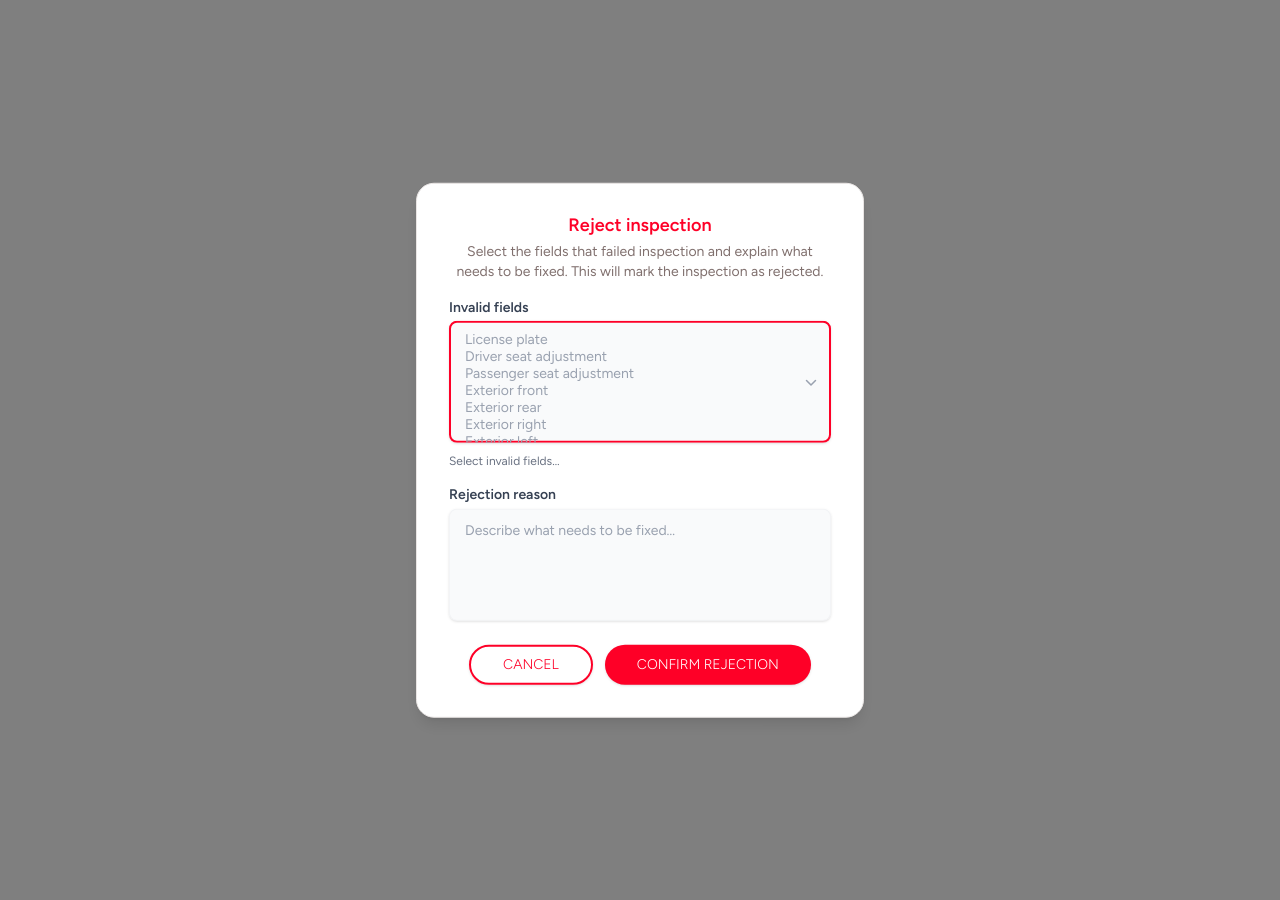
RejectDialog › shows a reason error when submitting without a reason
Select "Horn" in the dropdown labelled "Invalid fields". click: (640, 382)
box: top-left (449, 321), bottom-right (831, 443)
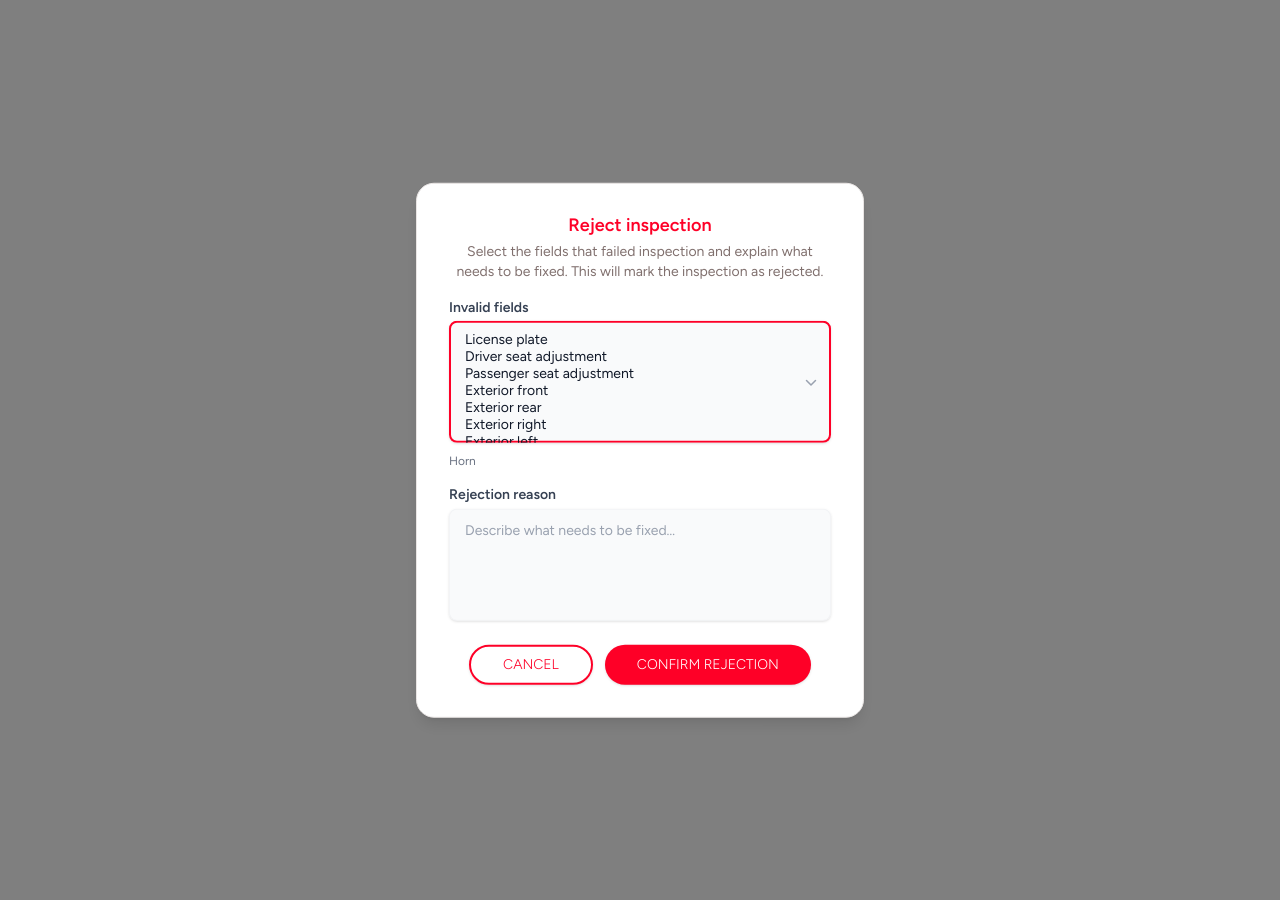
Click the button "Confirm rejection". click: (708, 664)
box: top-left (605, 644), bottom-right (811, 684)
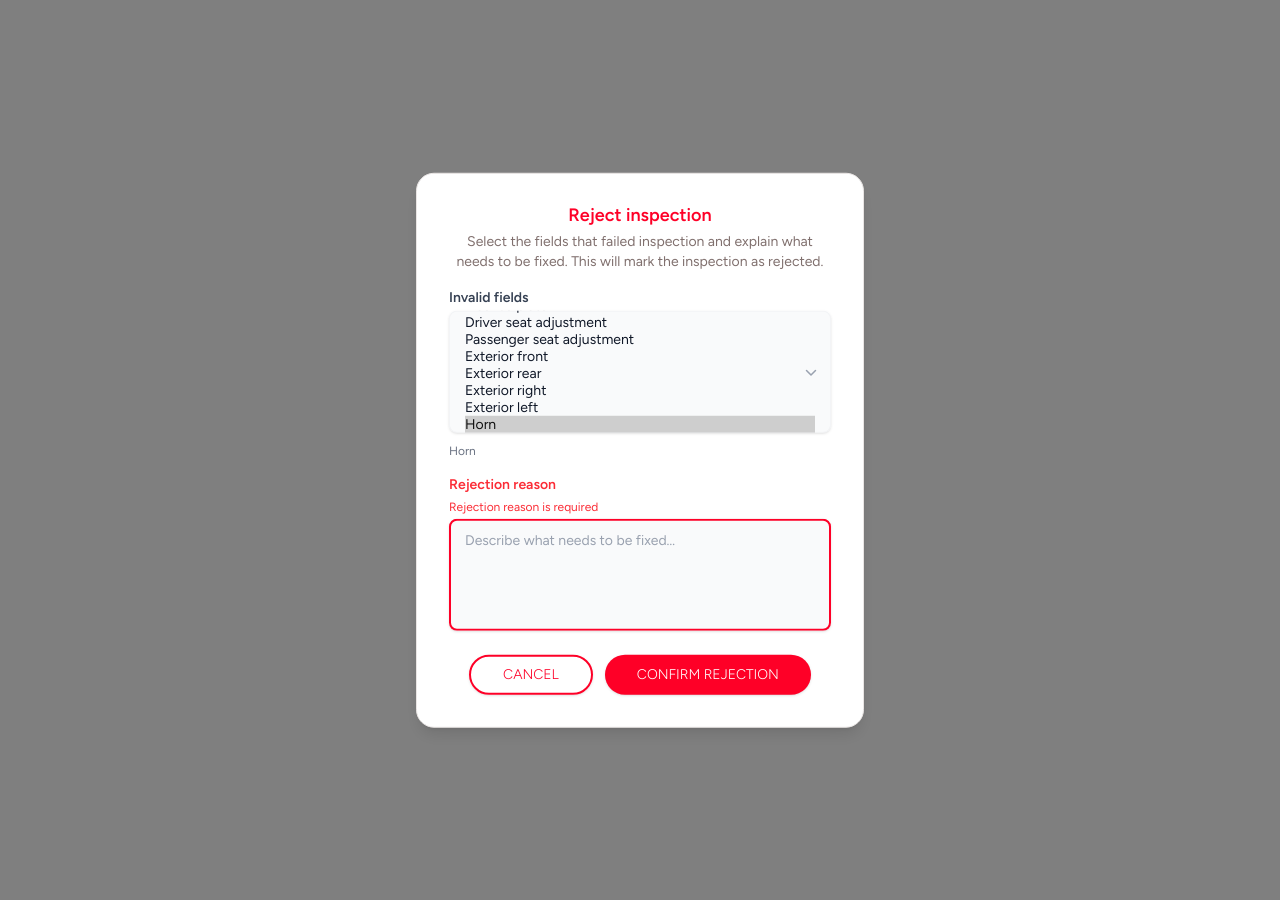
expect the text "Rejection reason is required" is shown: met, box top-left (449, 499), bottom-right (598, 513)
